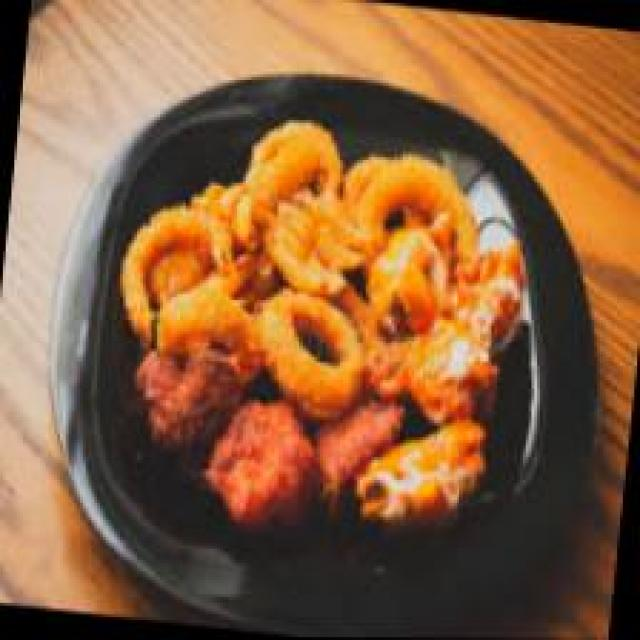Chicken Wings: (114, 330, 397, 524), (350, 241, 533, 533)
Onion Rings: (106, 106, 466, 414)
